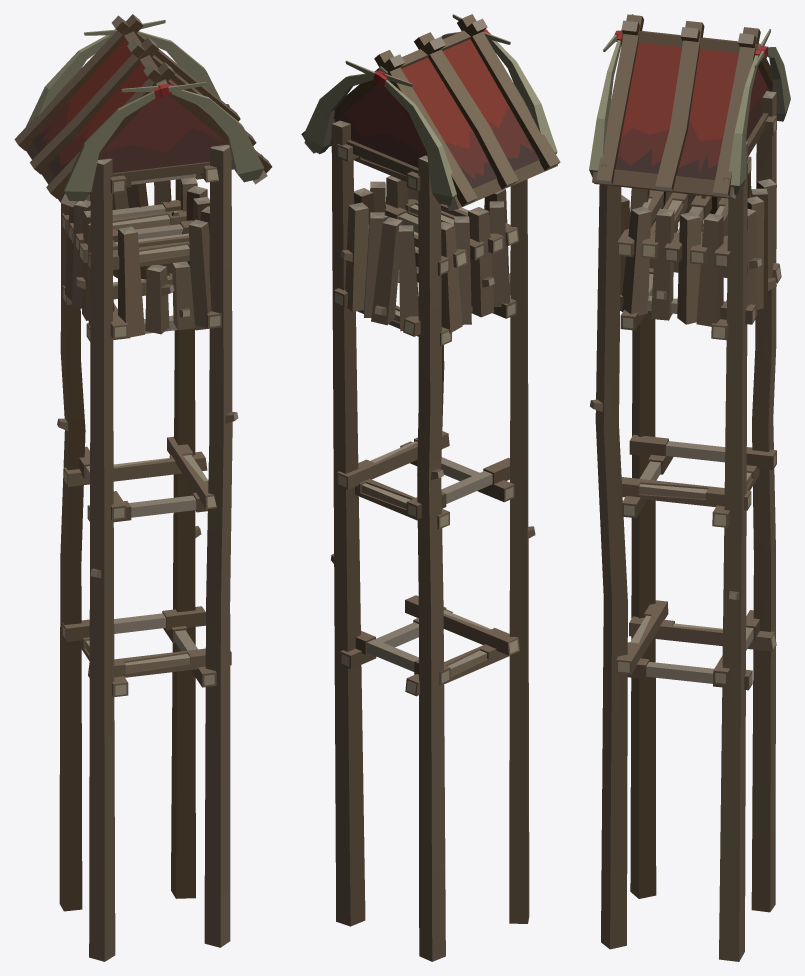
File: SF_Bld_Goblin_Tower_01.fbx
3 renders of one model, left to right at view 1: azimuth 30°, elevation 25°; view 2: azimuth 150°, elevation 25°; view 3: azimuth 270°, elevation 25°, orthographic. The views are drawn at different scales.
Visible parts, largest first — view 1: SF_Bld_Goblin_Tower_01 (1); view 2: SF_Bld_Goblin_Tower_01 (1); view 3: SF_Bld_Goblin_Tower_01 (1).
Part boxes in pixels (<box>): SF_Bld_Goblin_Tower_01 (1): <box>14,14,272,961</box>; SF_Bld_Goblin_Tower_01 (1): <box>301,14,560,961</box>; SF_Bld_Goblin_Tower_01 (1): <box>589,14,790,961</box>.
Bounding box in the file's own units: 6.33 × 23.99 × 4.87.
